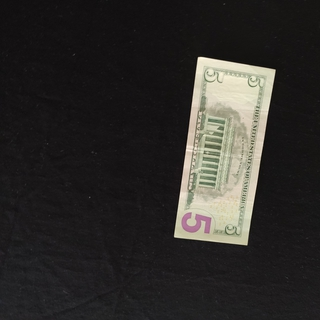5USDBack: (172, 56, 275, 246)
